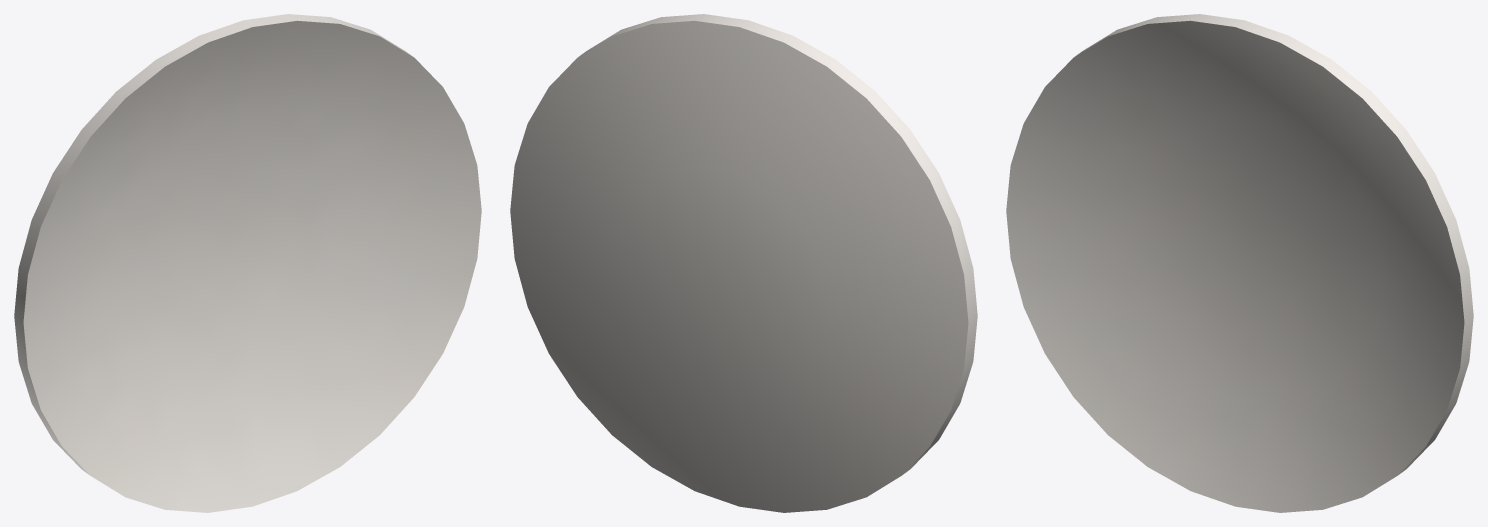
The model's file is Piring bersih.fbx.
3 renders of one model, left to right at view 1: azimuth 30°, elevation 25°; view 2: azimuth 150°, elevation 25°; view 3: azimuth 330°, elevation 25°, orthographic.
Visible parts, largest first — view 1: Piring no tex; view 2: Piring no tex; view 3: Piring no tex.
Part boxes in pixels (x1,y1,x2,y2): Piring no tex: (14, 14, 481, 512); Piring no tex: (510, 14, 977, 512); Piring no tex: (1006, 14, 1473, 512).
Size of the model in its own units: 60.57 by 60.57 by 6.22.
